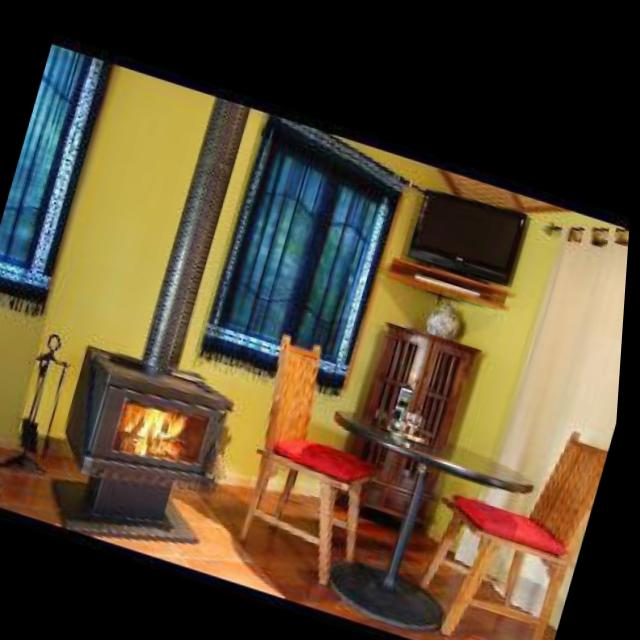Fire: (115, 385, 217, 468)
